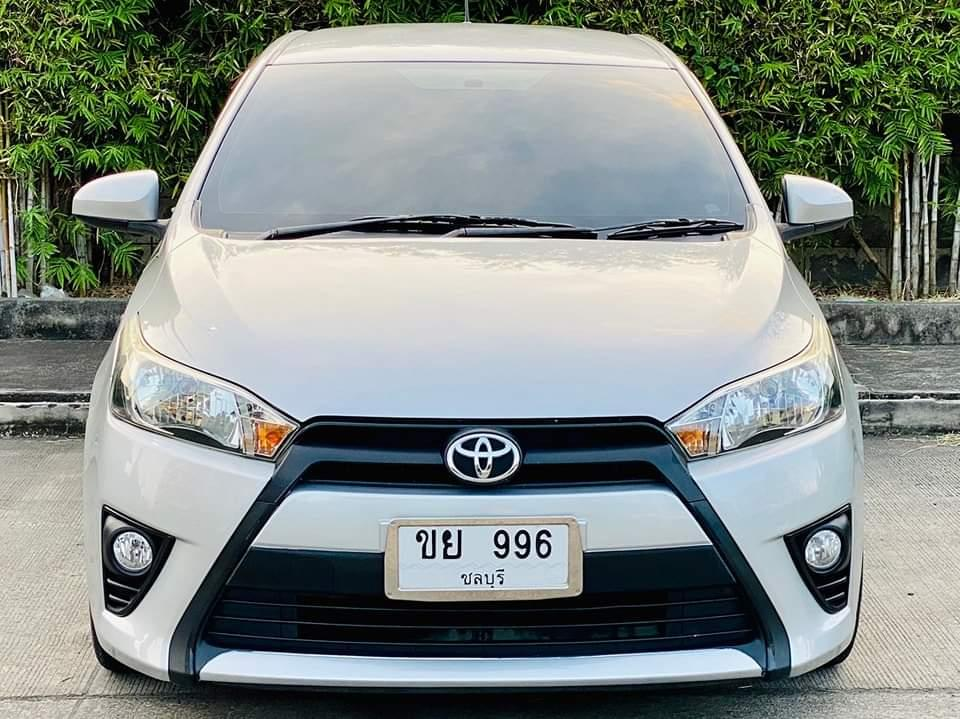license-plate: (382, 510, 590, 607)
